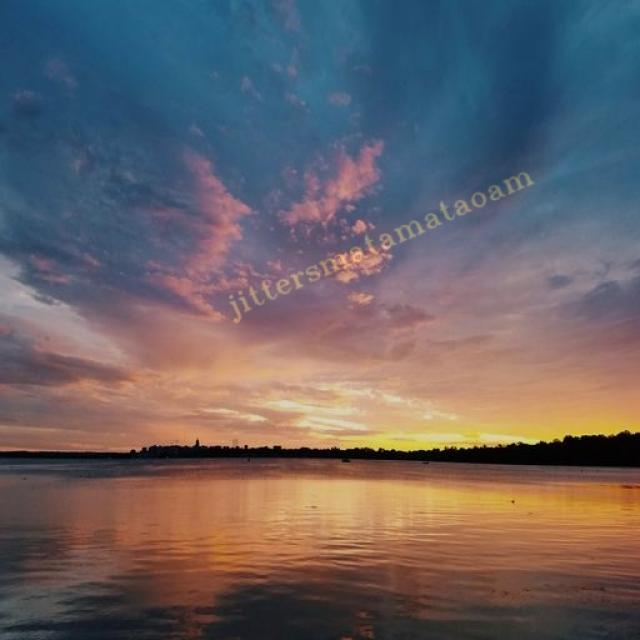watermark: (224, 158, 535, 321)
